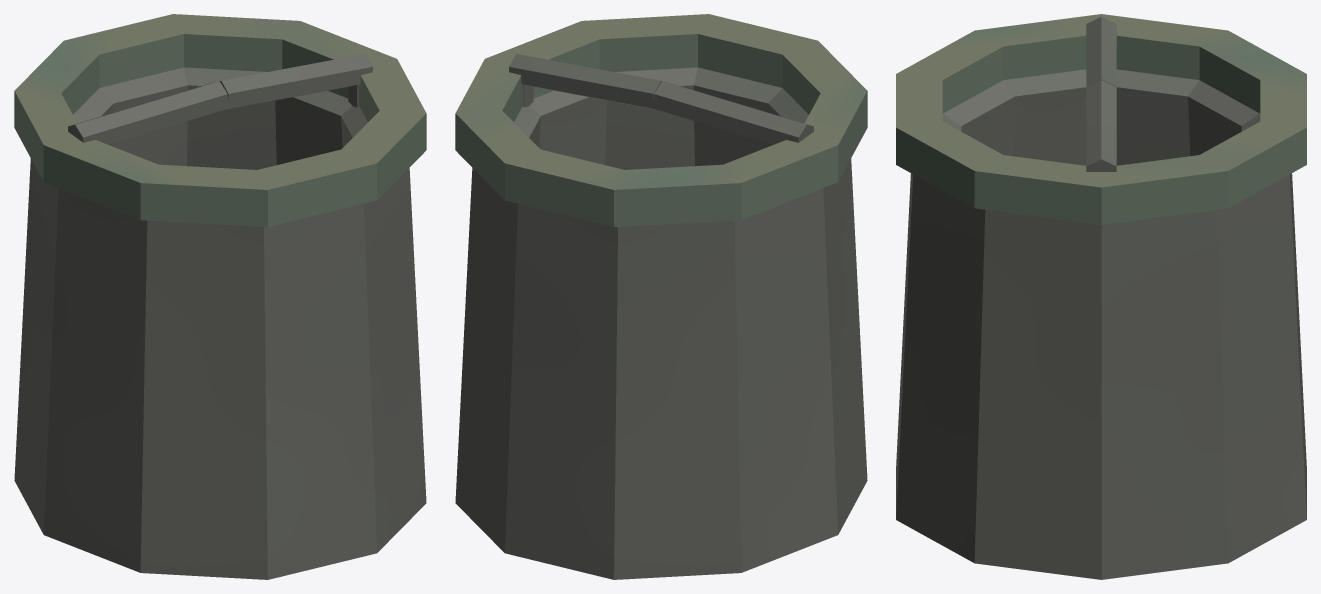
File: WarrensC_PWC21_Bucket_Mars_SM.fbx
3 renders of one model, left to right at view 1: azimuth 30°, elevation 25°; view 2: azimuth 150°, elevation 25°; view 3: azimuth 270°, elevation 25°, orthographic.
Visible parts, largest first — view 1: WarrensC_PWC21_Bucket_Mars_SM.001; view 2: WarrensC_PWC21_Bucket_Mars_SM.001; view 3: WarrensC_PWC21_Bucket_Mars_SM.001.
Part boxes in pixels (left/top/right/bottom): WarrensC_PWC21_Bucket_Mars_SM.001: left=14, top=14, right=426, bottom=579; WarrensC_PWC21_Bucket_Mars_SM.001: left=455, top=14, right=867, bottom=579; WarrensC_PWC21_Bucket_Mars_SM.001: left=896, top=14, right=1306, bottom=579.
Bounding box in the file's own units: 45 × 45 × 50.
